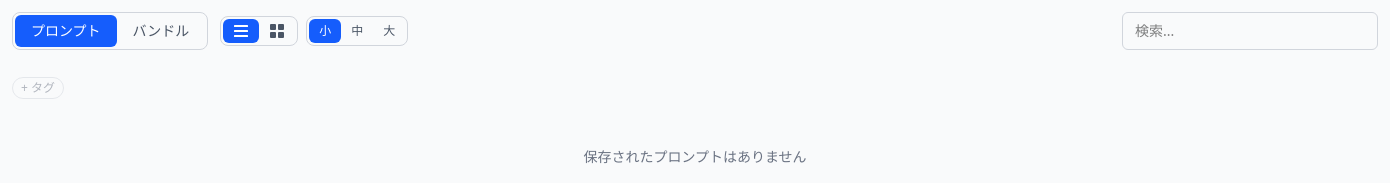
Test: PromptManager › バンドルセグメントでバンドル一覧が表示される
What coordinates should you click on to do the following:
click the button with test id "segment-bundles"
I would click on:
 (161, 31)
Its box is [117, 15, 205, 47].
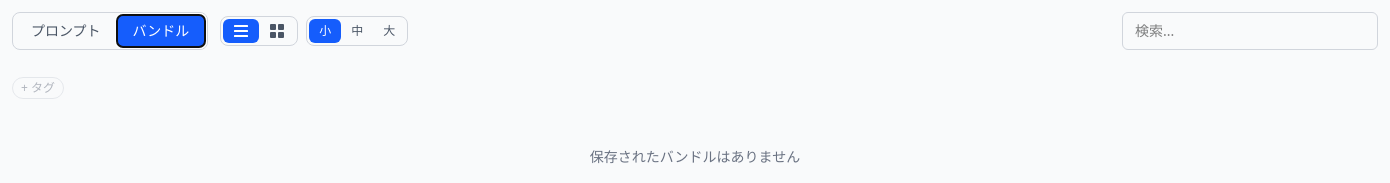
expect the element with test id "bundle-list" is shown: met, box [590, 147, 800, 166]
